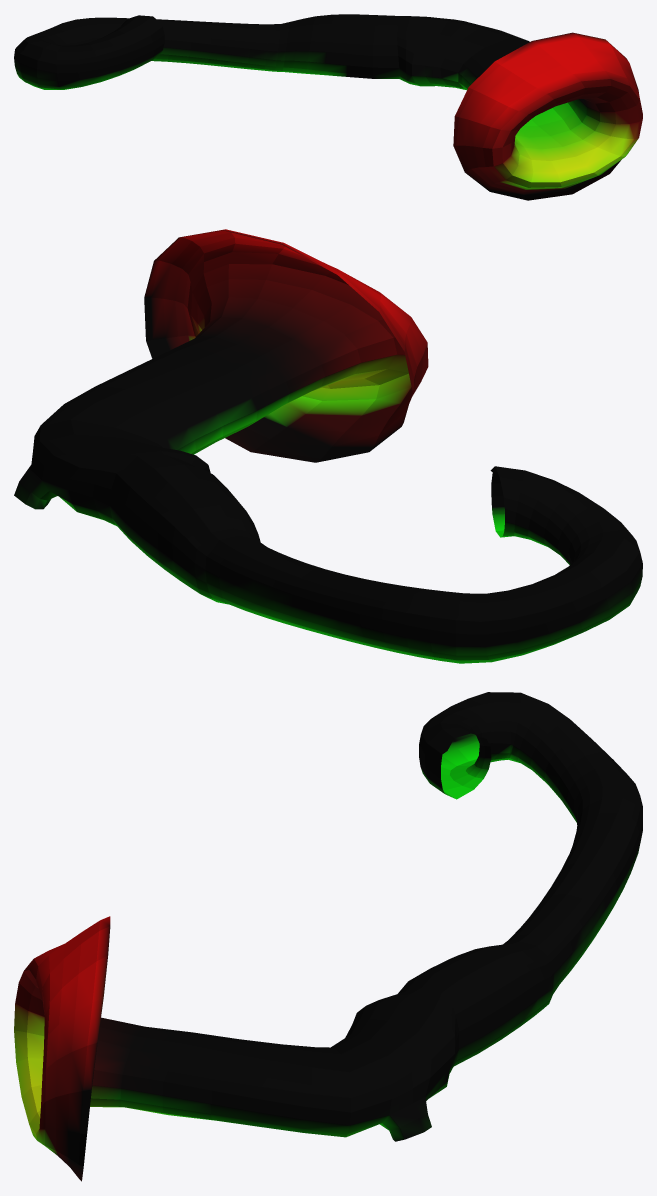
Rendered from MiningTunnel_4.obj.
3 renders of one model, top to bottom at view 1: azimuth 30°, elevation 25°; view 2: azimuth 150°, elevation 25°; view 3: azimuth 270°, elevation 25°, orthographic. The views are drawn at different scales.
Visible parts, largest first — view 1: MiningTunnel_4; view 2: MiningTunnel_4; view 3: MiningTunnel_4.
Part boxes in pixels (x1,y1,x2,y2): MiningTunnel_4: (14, 14, 642, 200); MiningTunnel_4: (14, 229, 642, 663); MiningTunnel_4: (14, 692, 642, 1181).
Bounding box in the file's own units: 61.13 × 19.22 × 48.43.
